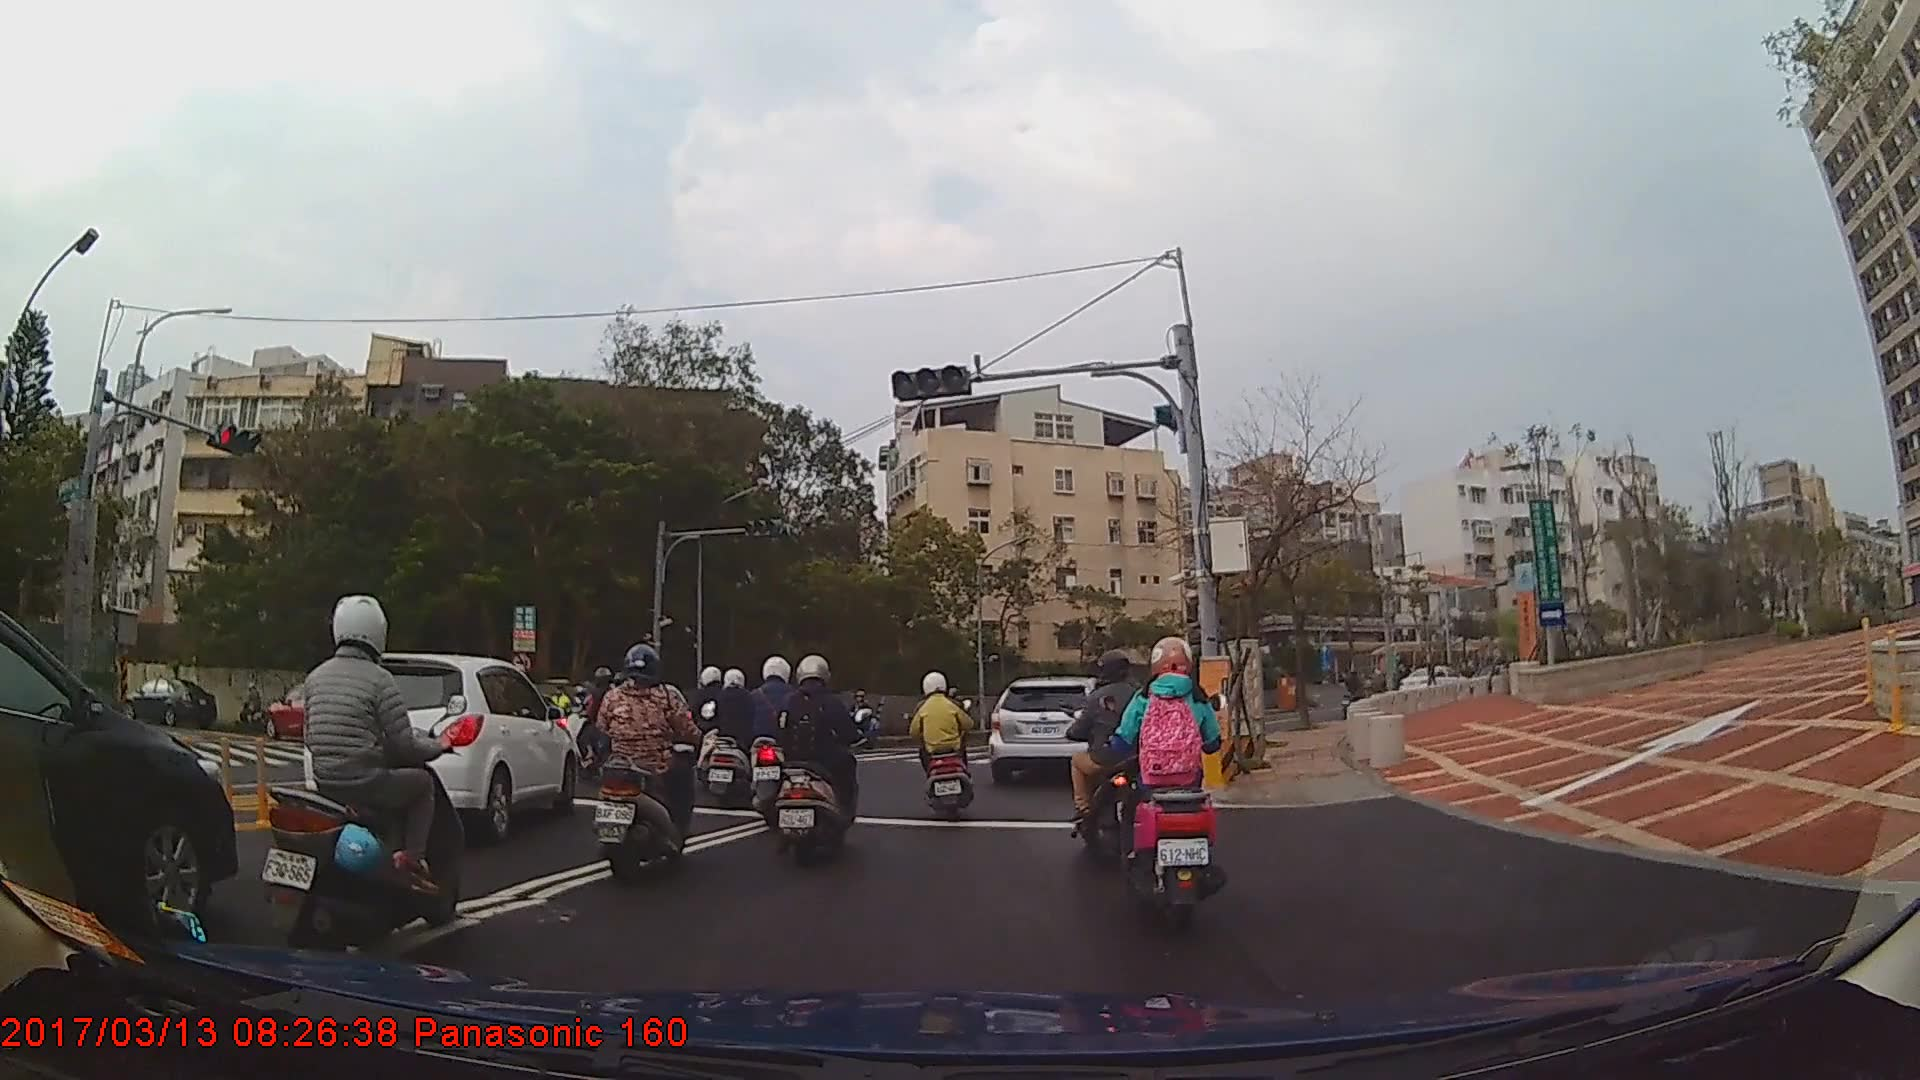rider: (259, 594, 467, 961), (1115, 637, 1229, 923), (588, 642, 704, 892), (1062, 647, 1164, 861), (773, 652, 868, 870), (740, 653, 812, 828), (907, 671, 985, 821), (706, 670, 770, 808), (846, 691, 881, 750)
vehicle: (0, 609, 237, 929), (296, 653, 573, 846), (988, 676, 1127, 785), (265, 677, 367, 739), (112, 674, 216, 727), (1402, 667, 1467, 698)
